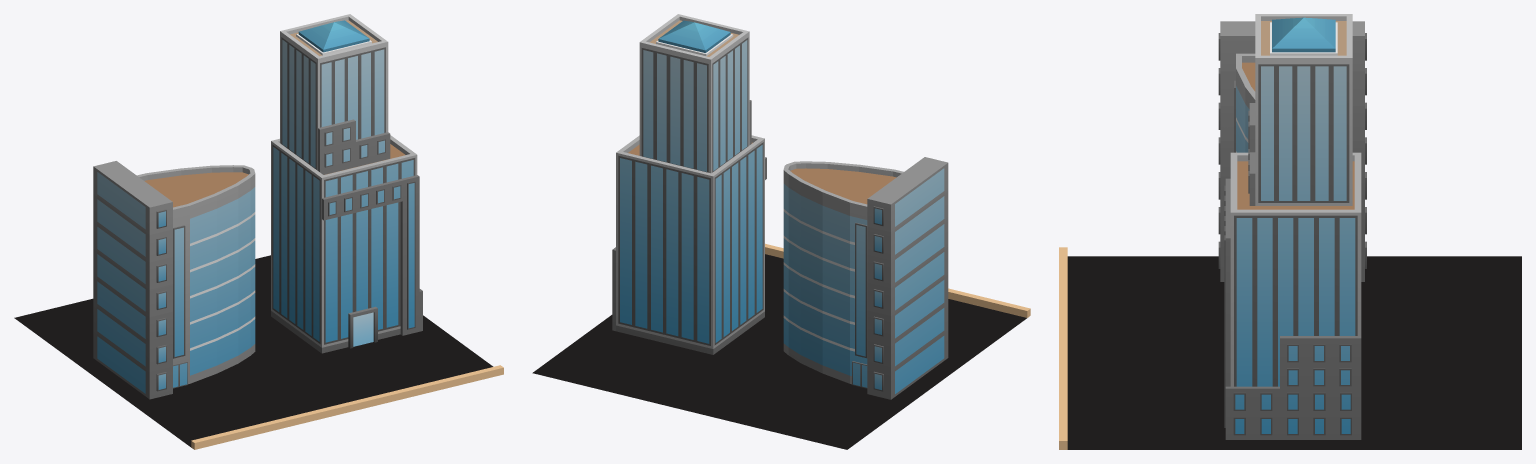
File: Tile 28_Combined.fbx
3 views of the same model, side by side, from view 1: azimuth 30°, elevation 25°; view 2: azimuth 150°, elevation 25°; view 3: azimuth 270°, elevation 25° (orthographic). The views are drawn at different scales.
Parts seen in each view (by area): view 1: MeshBaker_Cluster_0_mesh_mesh; view 2: MeshBaker_Cluster_0_mesh_mesh; view 3: MeshBaker_Cluster_0_mesh_mesh.
Part boxes in pixels (x1,y1,x2,y2): MeshBaker_Cluster_0_mesh_mesh: [14, 14, 503, 449]; MeshBaker_Cluster_0_mesh_mesh: [532, 14, 1030, 449]; MeshBaker_Cluster_0_mesh_mesh: [1059, 14, 1521, 449].
Bounding box in the file's own units: 3000 × 2783 × 3029.
